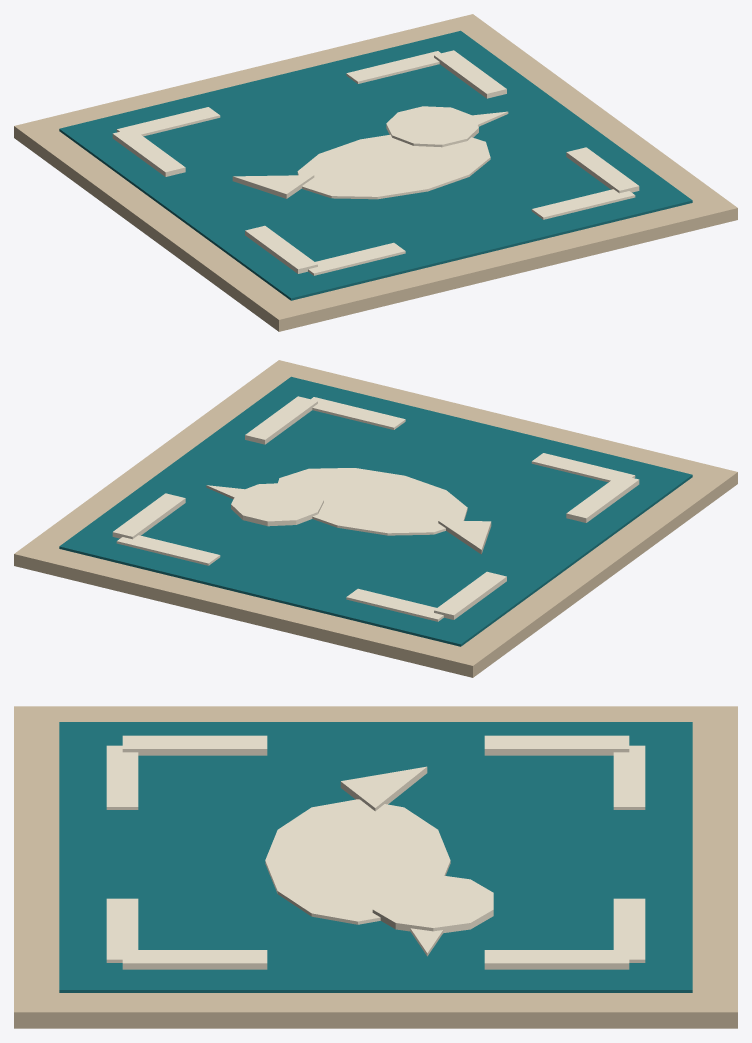
File: ready_marker.glb
3 renders of one model, top to bottom at view 1: azimuth 30°, elevation 25°; view 2: azimuth 150°, elevation 25°; view 3: azimuth 270°, elevation 25°, orthographic. The views are drawn at different scales.
Parts seen in each view (by area): view 1: ready_marker; view 2: ready_marker; view 3: ready_marker.
Boxes of the visible parts, <box> form: ready_marker: <box>14,14,737,331</box>; ready_marker: <box>14,360,737,677</box>; ready_marker: <box>14,706,737,1028</box>.
Bounding box in the file's own units: 0.8 × 0.032 × 0.8.
